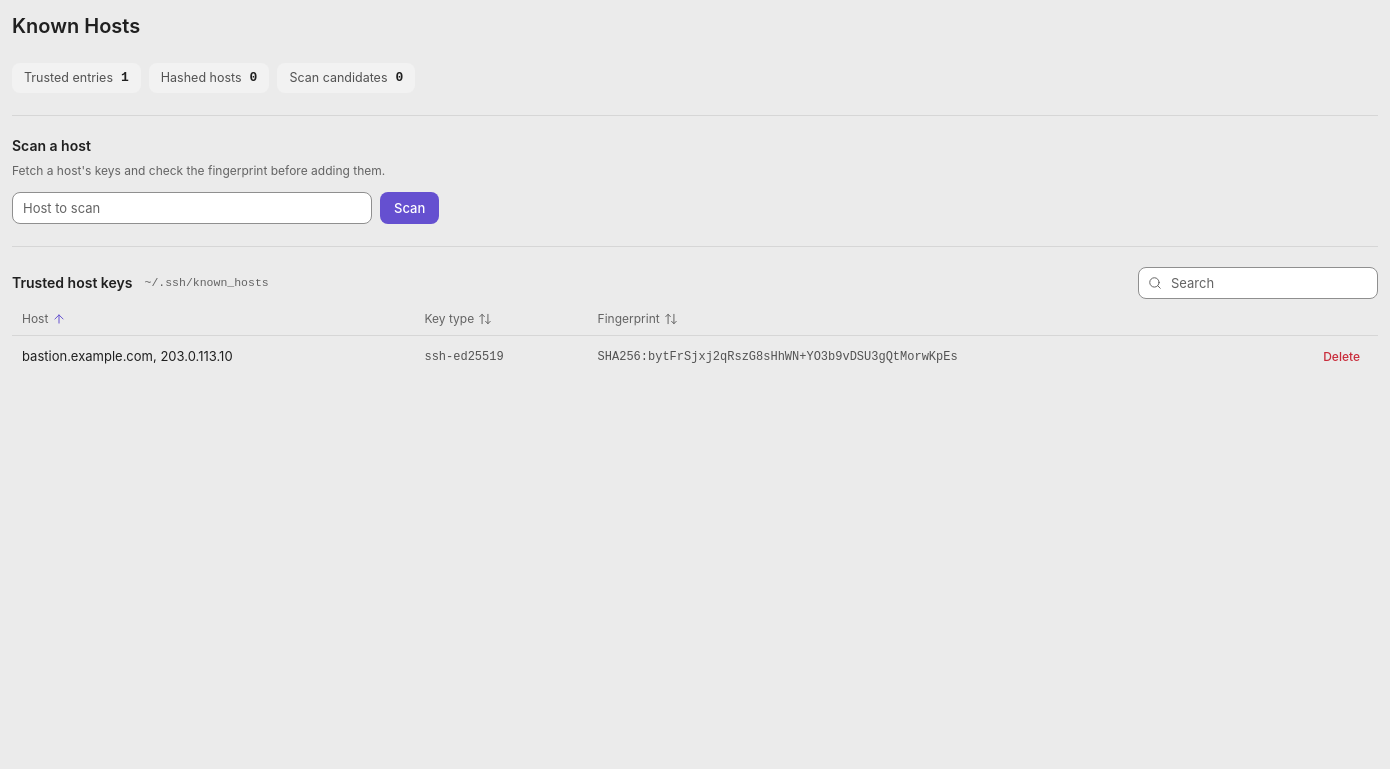
KnownHostsPanel › keeps the add control unavailable until a fingerprint is typed or the risk is acknowledged
The width and height of the screenshot is (1390, 769).
Type "new.example.com" into the field labelled "Host to scan" at (192, 208), box [12,192,372,224]
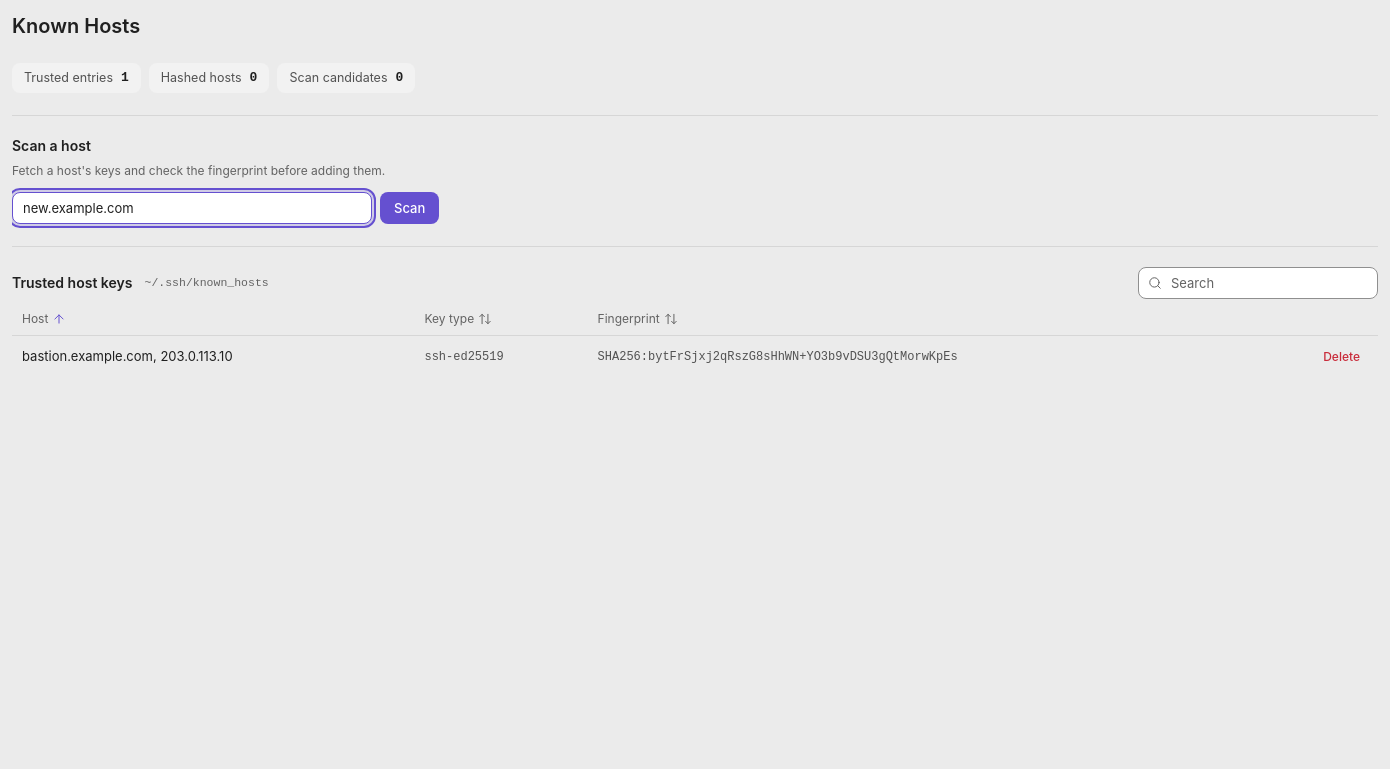
Click the button "Scan" at (410, 208), box [380,192,439,224]
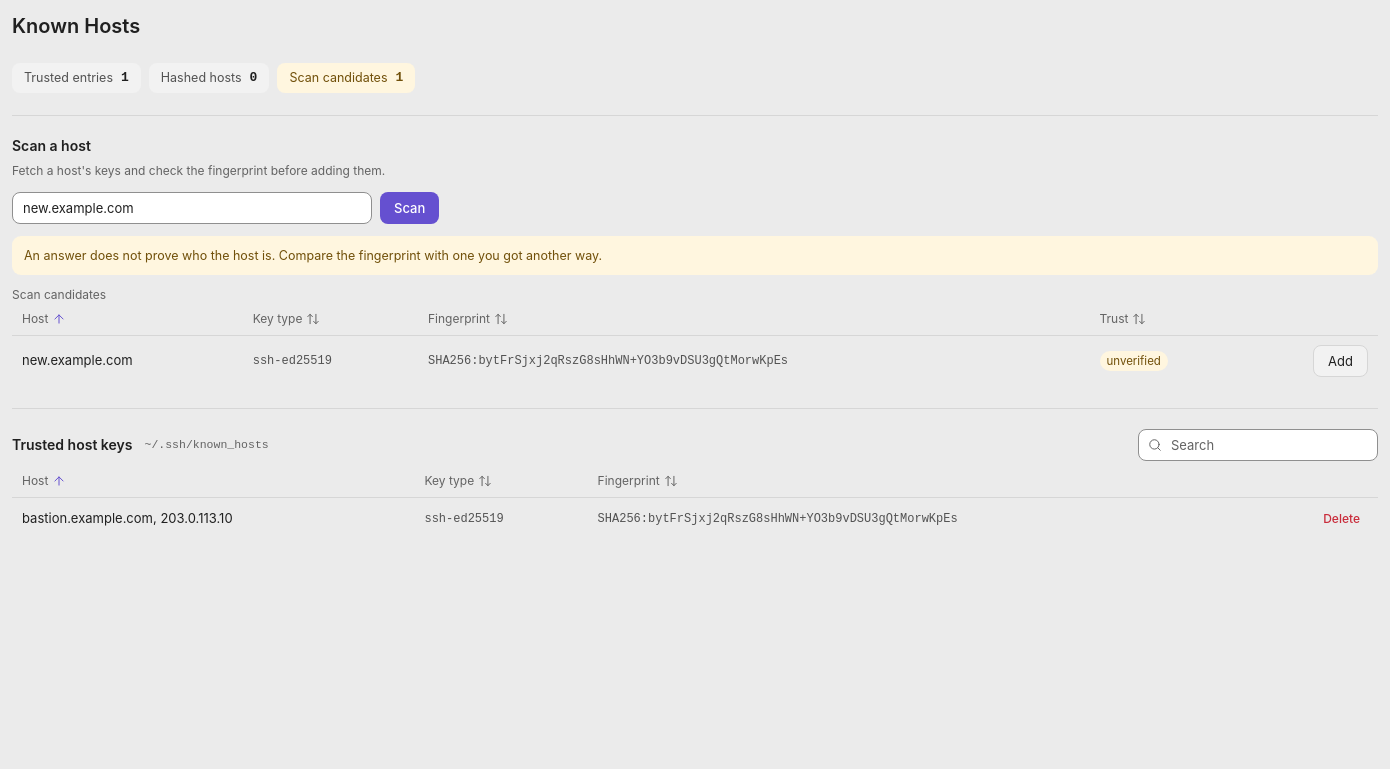
Click the button "Add" at (1341, 361), box [1313,345,1368,377]
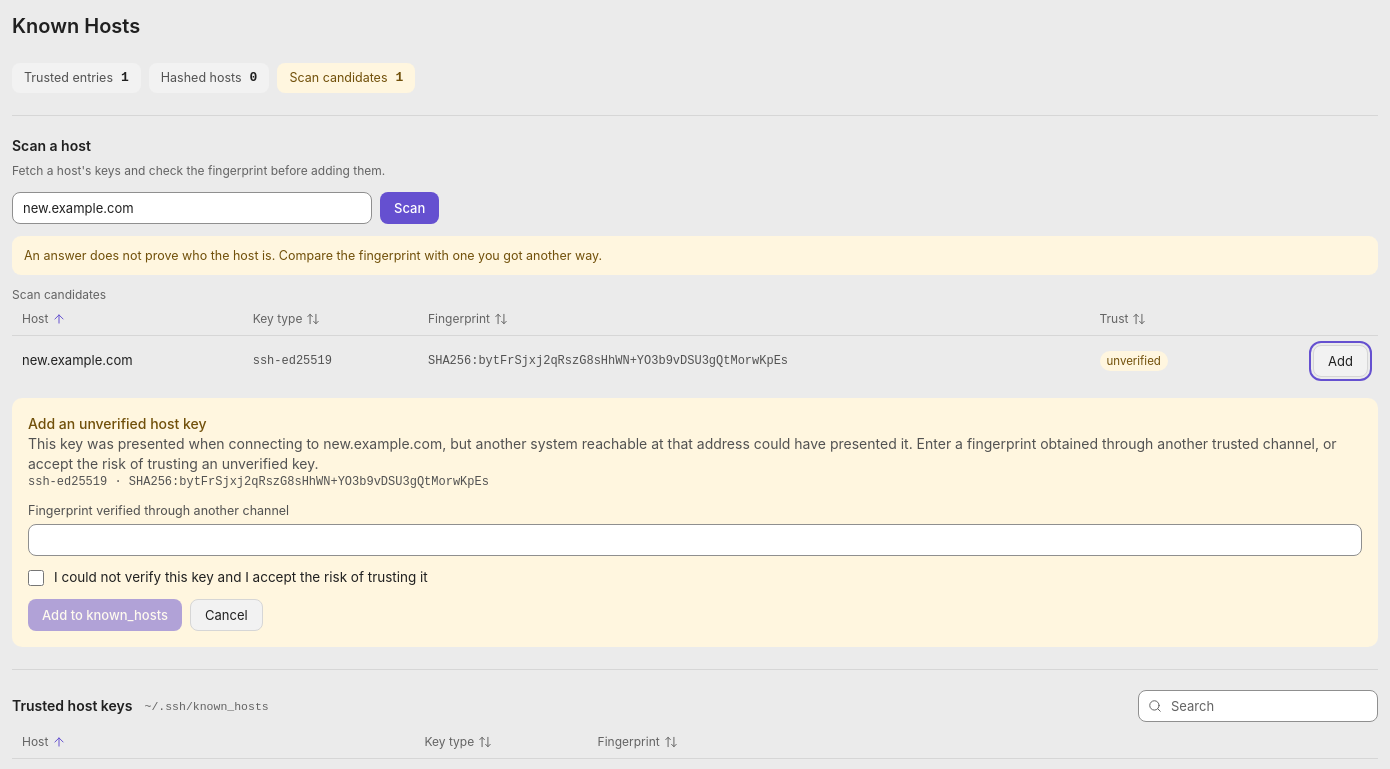
Result: the button "Add to known_hosts" is disabled at [28,599,182,631]
Type "SHA256:bytFrSjxj2qRszG8sHhWN+YO3b9vDSU3gQtMorwKpEs" into the field labelled "Fingerprint verified through another channel" at (695, 540), box [28,524,1362,556]
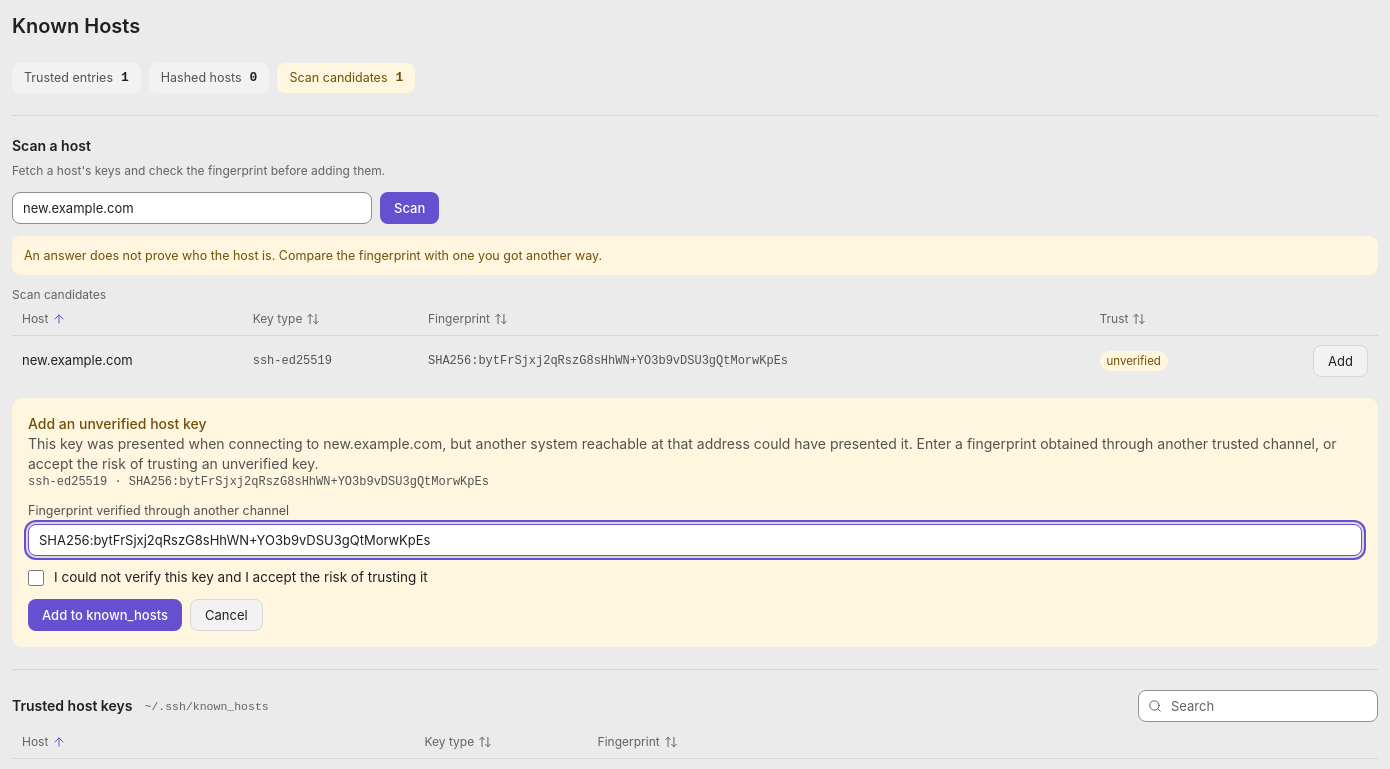
Result: the button "Add to known_hosts" is enabled at [28,599,182,631]
Clear the field labelled "Fingerprint verified through another channel" at (695, 540), box [28,524,1362,556]
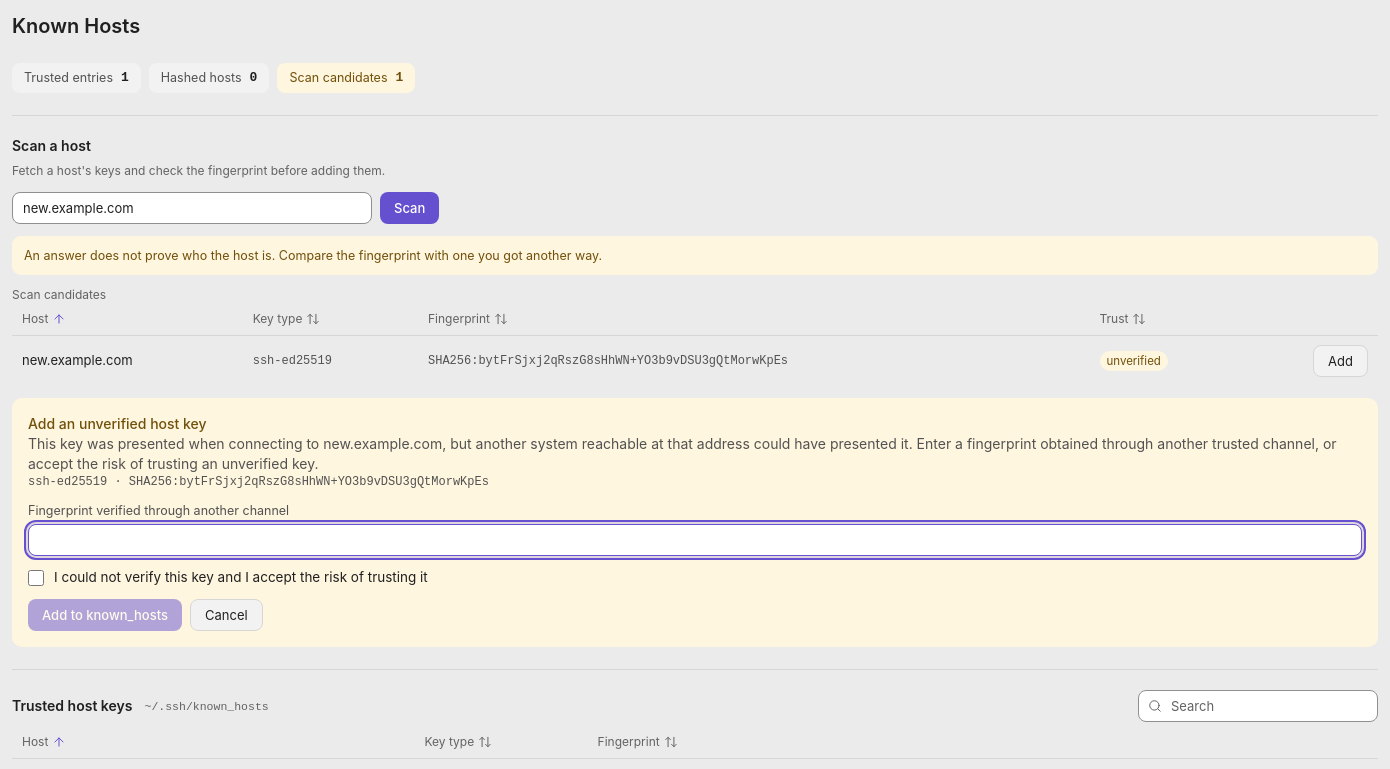
Result: the button "Add to known_hosts" is disabled at [28,599,182,631]
Click the checkbox labelled "accept the risk" at (36, 578), box [28,570,44,586]
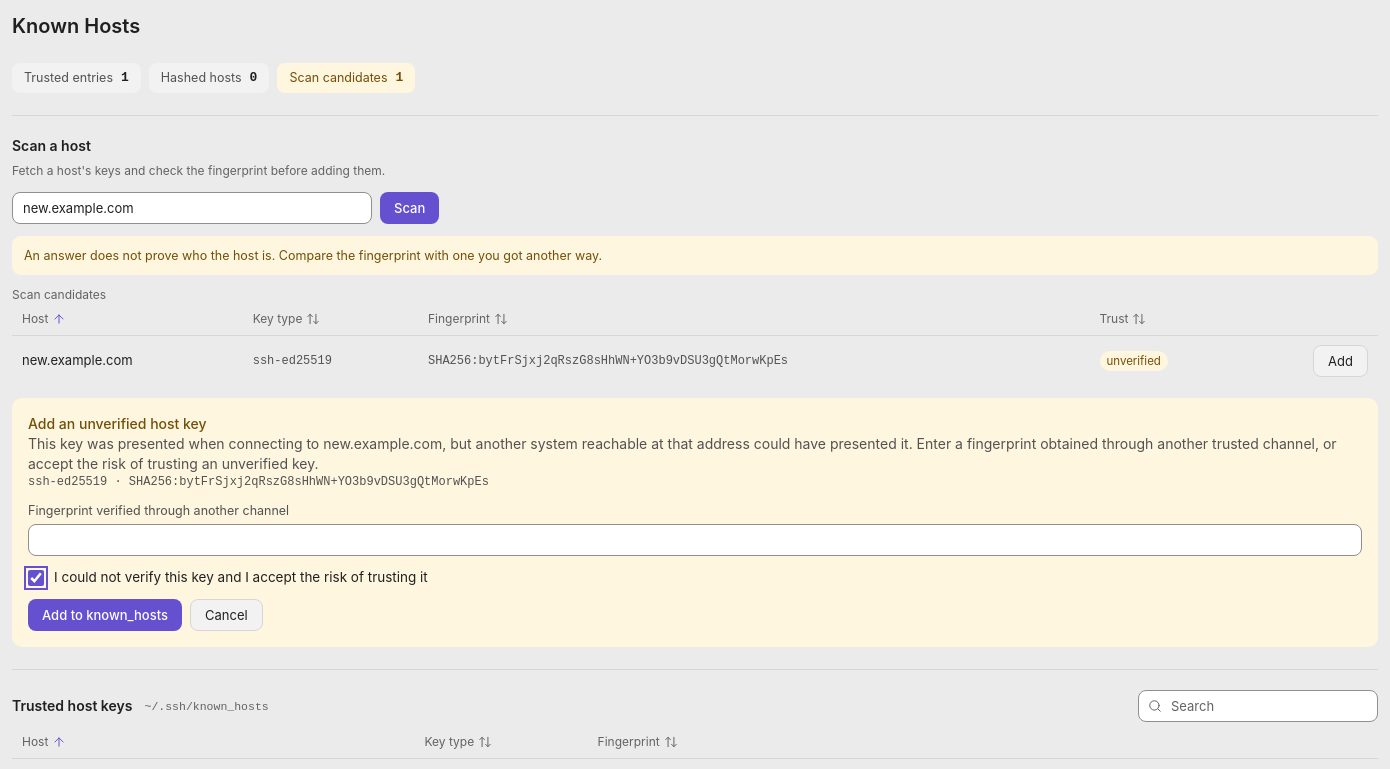
Result: the button "Add to known_hosts" is enabled at [28,599,182,631]
